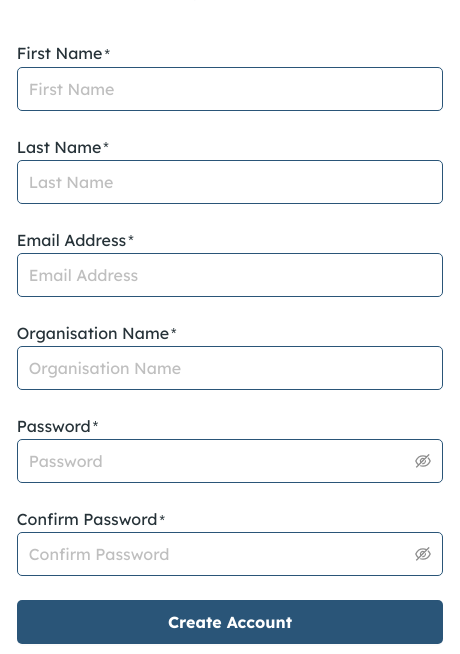
Test case: Sign Up: Check the actions and behavior of fields › validate user inputs, and provides filled input error messages
The image size is (460, 654).
Step 1. Type "1" into the field labelled "First Name" → (230, 89), box [17,67,443,111]
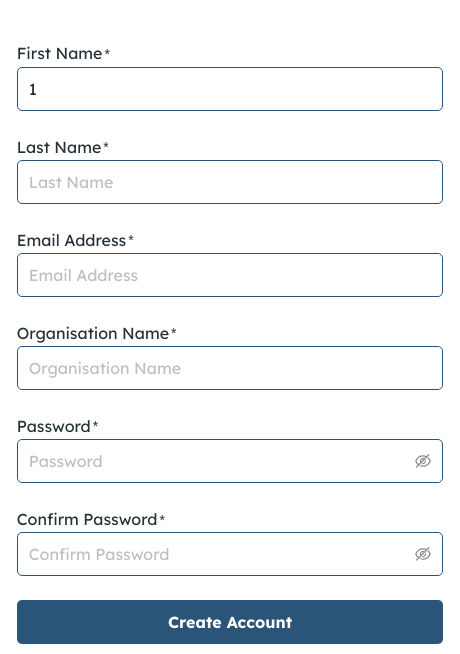
Step 2. Type "1" into the field labelled "Last Name" → (230, 182), box [17,160,443,204]
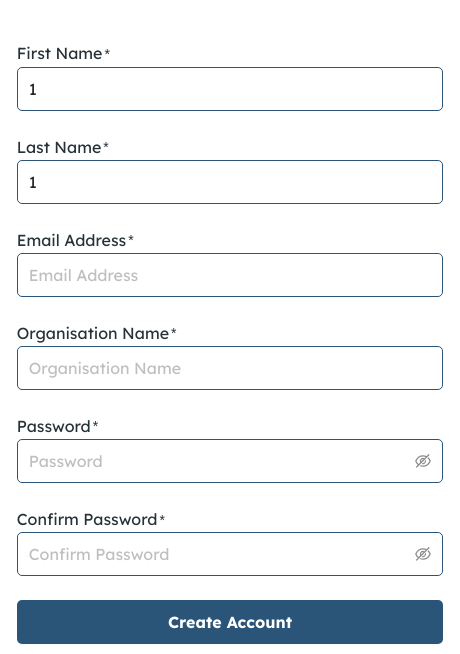
Step 3. Type "1" into the field labelled "Email Address" → (230, 275), box [17,253,443,297]
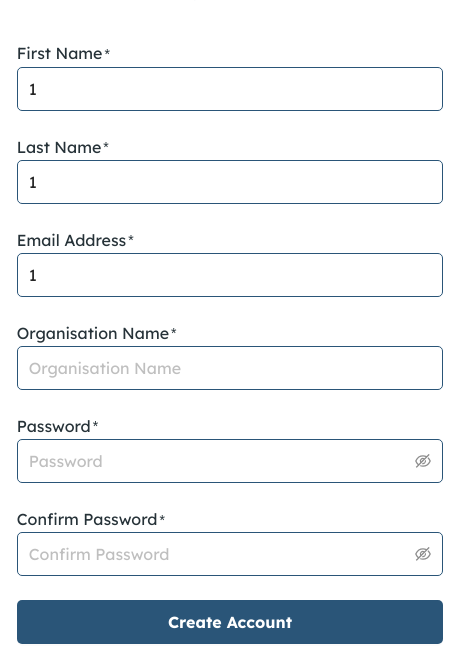
Step 4. Type "1" into the field labelled "Organisation Name" → (230, 368), box [17,346,443,390]
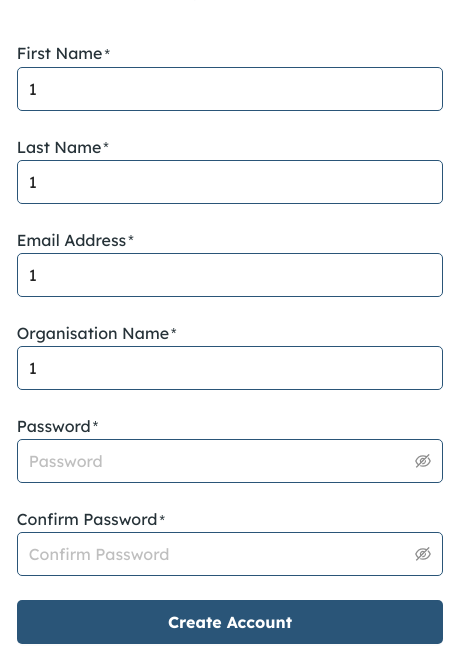
Step 5. Type "1" into the password field with placeholder "Password" → (220, 461), box [29,444,411,478]
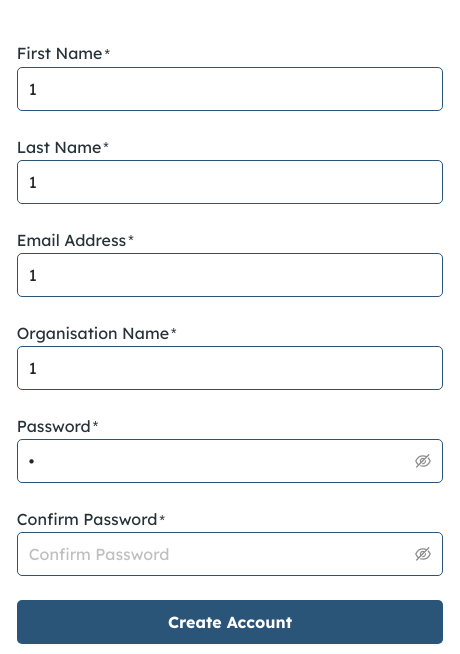
Step 6. Type "1" into the password field with placeholder "Confirm Password" → (220, 554), box [29,537,411,571]
(page scrolled)
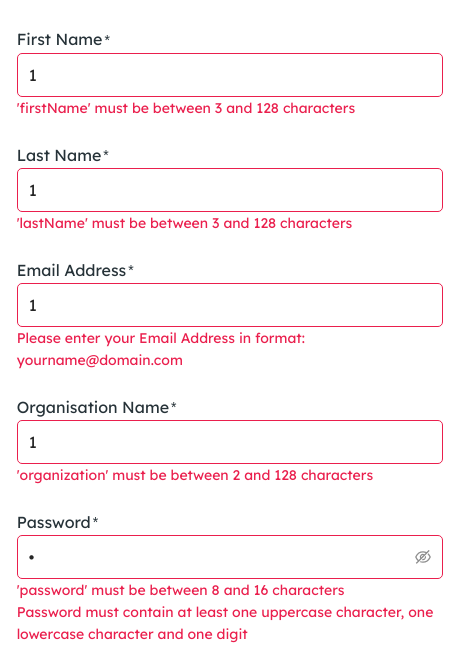
Now the text "'firstName' must be between 3 and 128 characters" is shown, box [17,99,355,117]
Now the text "'lastName' must be between 3 and 128 characters" is shown, box [17,214,352,232]
Now the text "Please enter your Email Address in format: yourname@domain.com" is shown, box [17,329,305,369]
